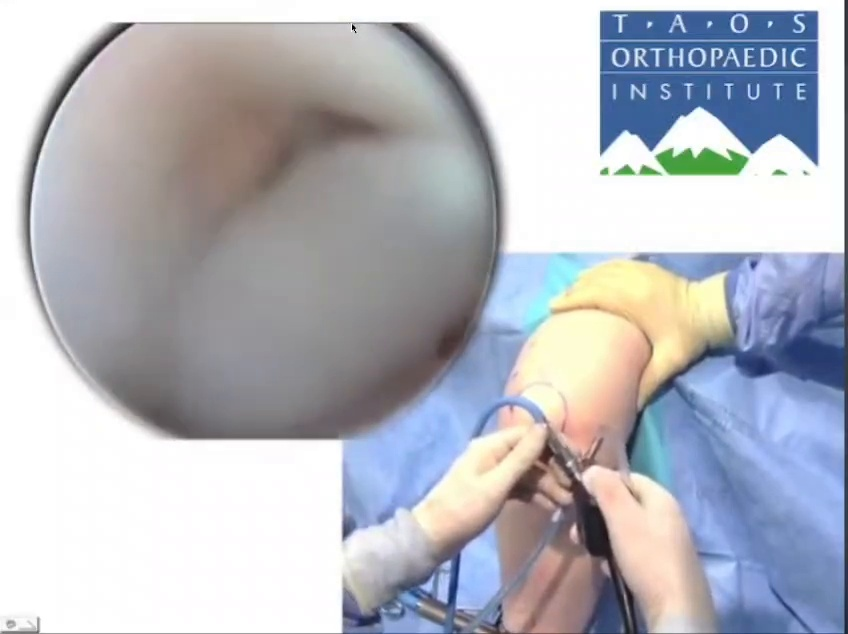probe: (756, 378, 848, 634)
